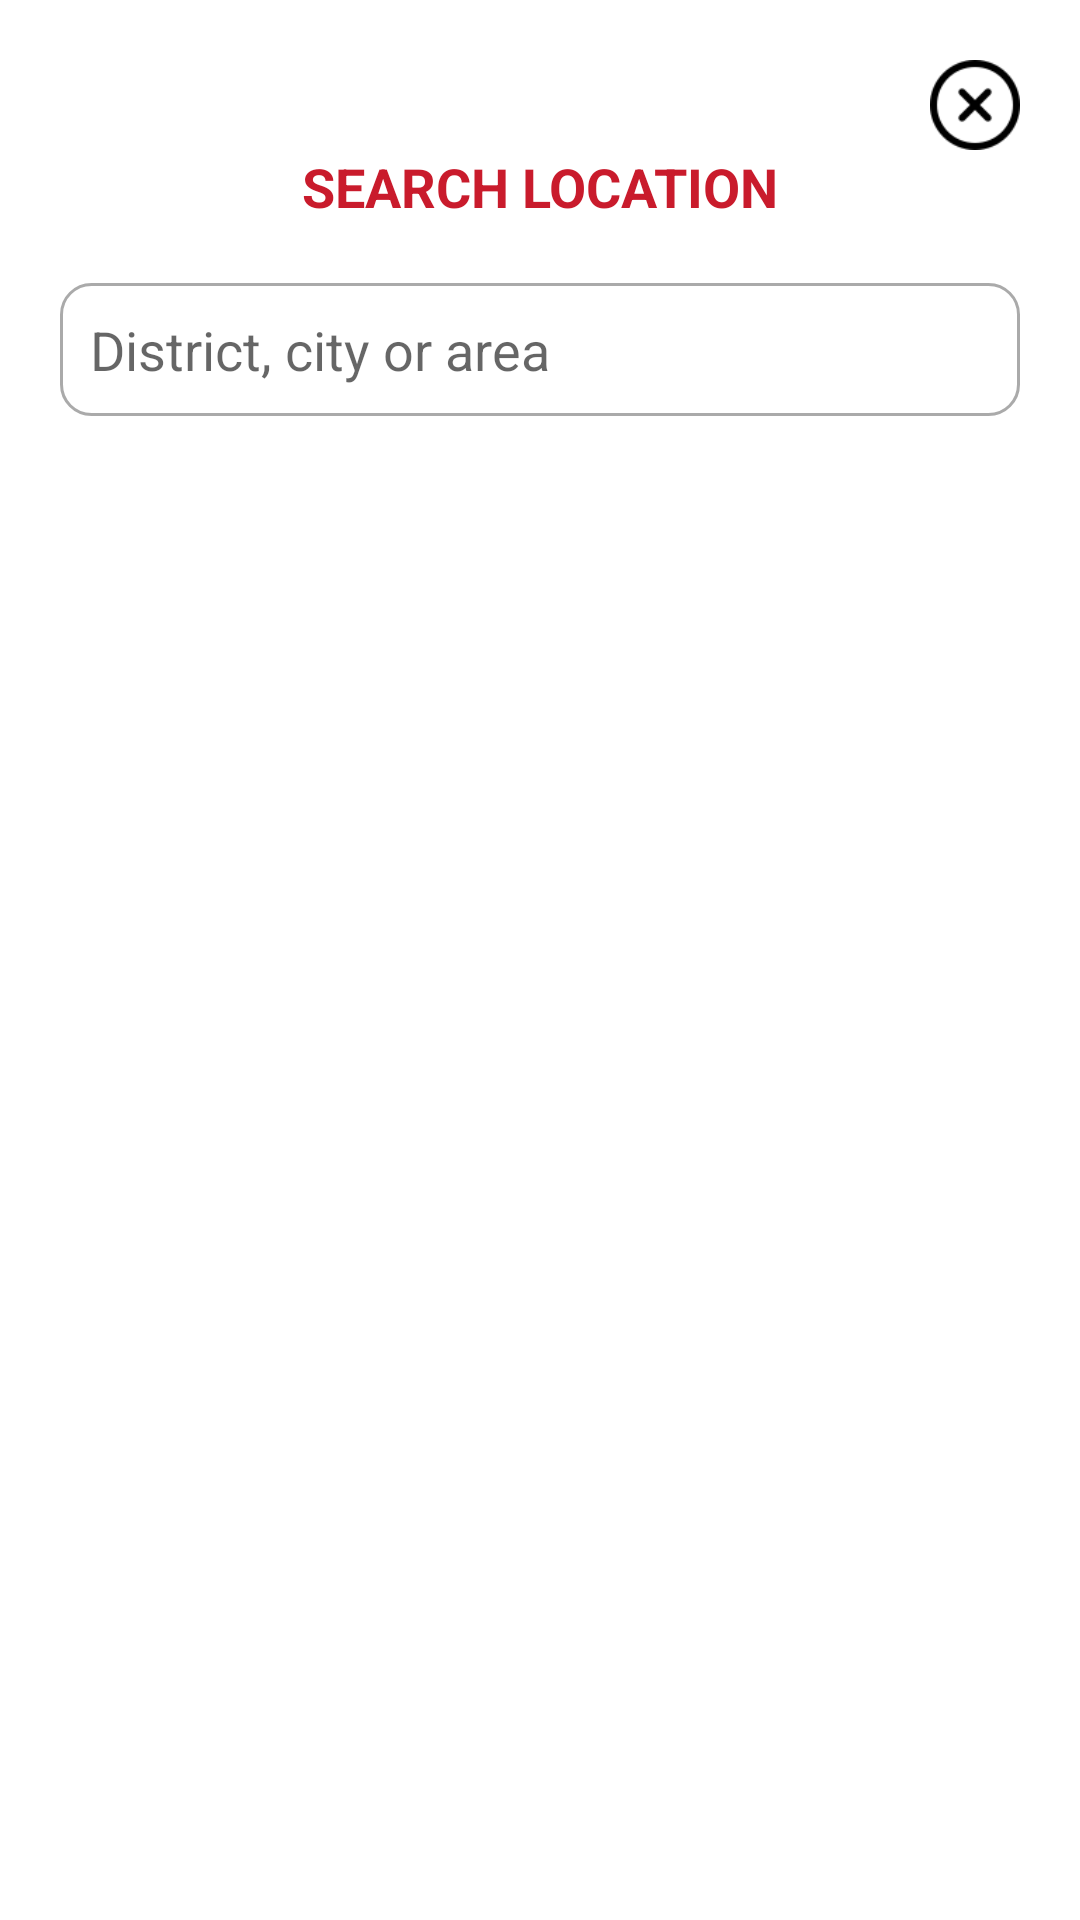

Icon bounding boxes for this 1080w x 1920h phone screenshot, format (x1, y1, x2, y2):
close: (930, 60, 1020, 150)
